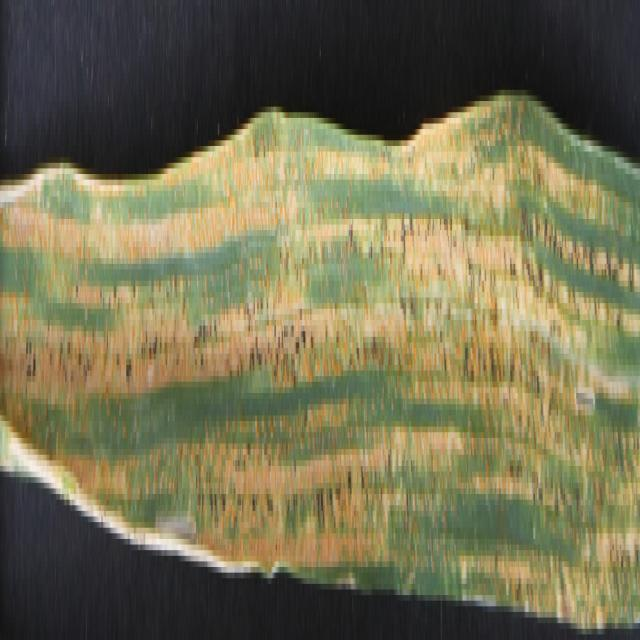leaf rust: (1, 39, 638, 623)
